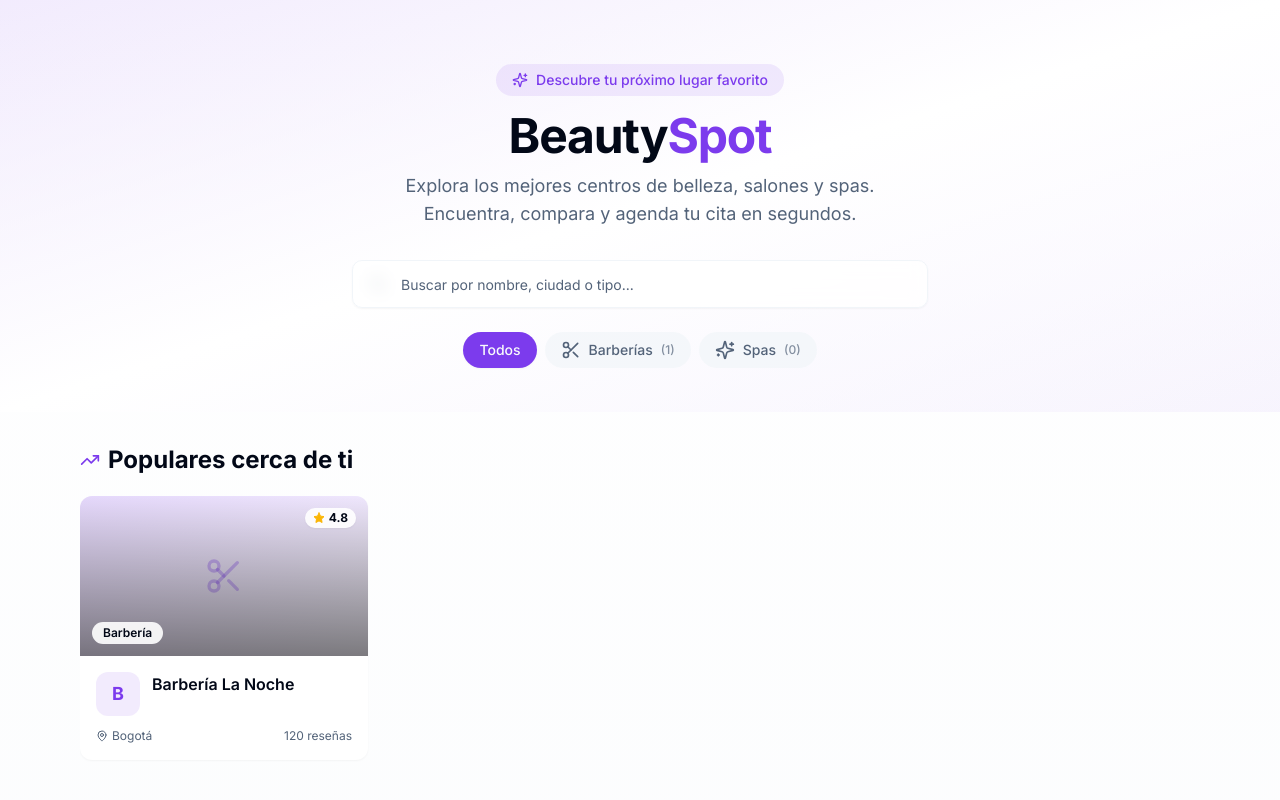
Test: MarketplaceFeed › con negocios publicados › dice cuántos resultados encontró la búsqueda
This screenshot has width=1280, height=800.
Type "noche" into the search field with placeholder "Buscar por nombre, ciudad o tipo..." at point(640, 284), box [352,260,928,308]
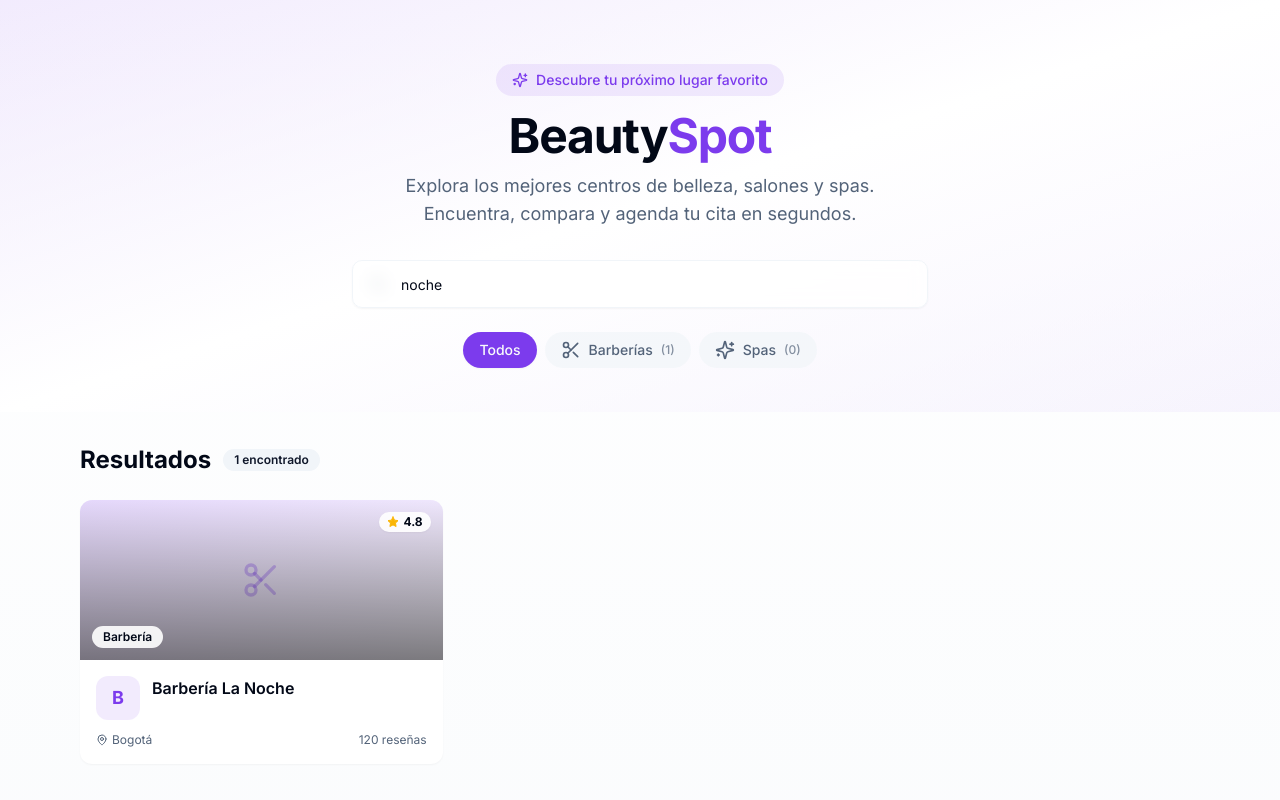
Expected: the heading "Barbería La Noche" is shown, [152,678,294,698]
Now the text "1 encontrado" is shown, box [223,449,320,471]
